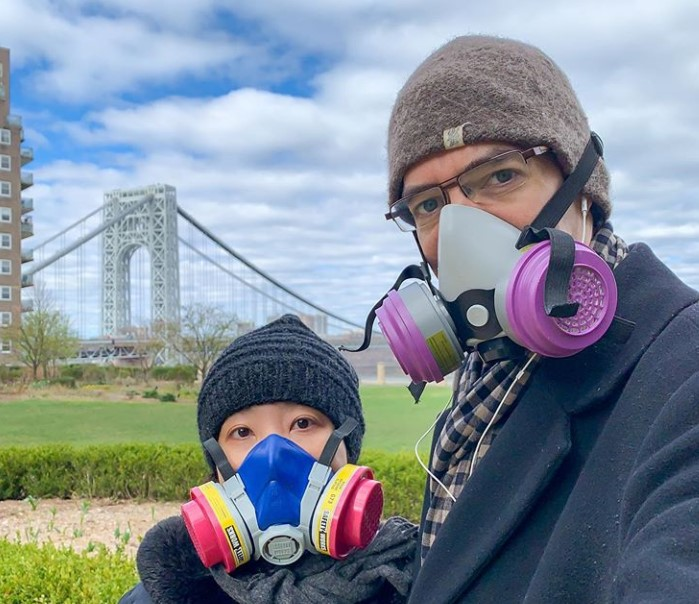face_with_mask: (377, 30, 621, 390), (182, 314, 393, 576)
